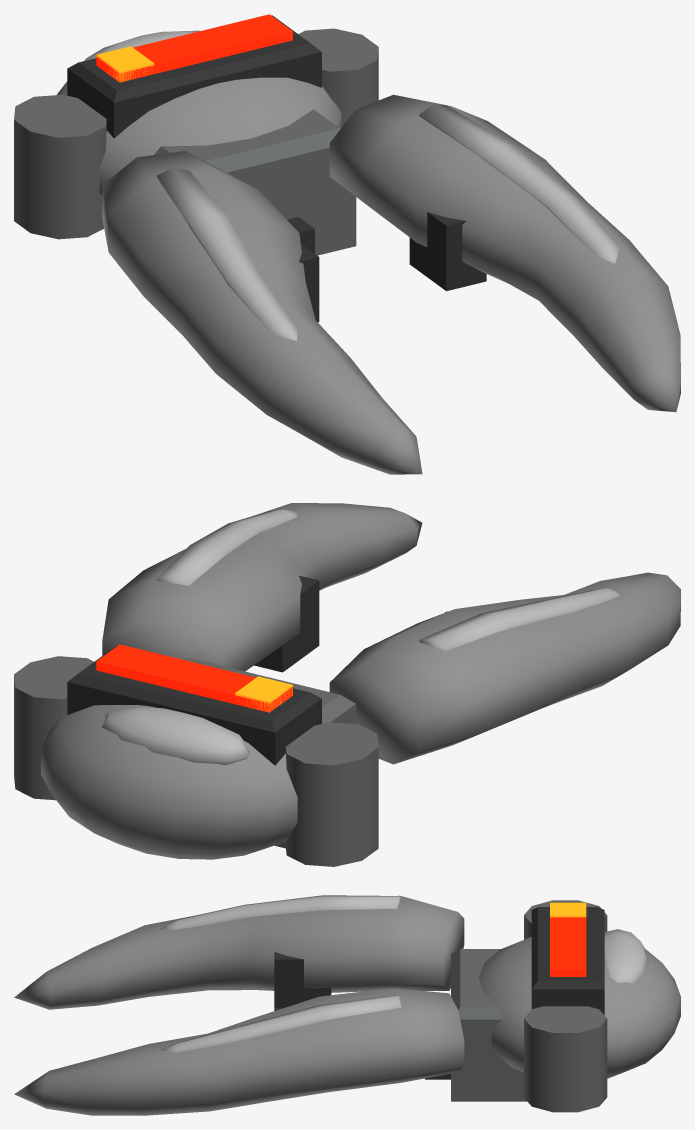
The model's file is newshd-121.glb.
The picture shows the model from 3 angles, top to bottom: view 1: azimuth 30°, elevation 25°; view 2: azimuth 150°, elevation 25°; view 3: azimuth 270°, elevation 25°; orthographic projection. The views are drawn at different scales.
Visible parts, largest first — view 1: newshd-121; view 2: newshd-121; view 3: newshd-121.
Part boxes in pixels (x1=…): newshd-121: x1=14, y1=14, x2=680, y2=474; newshd-121: x1=14, y1=503, x2=680, y2=866; newshd-121: x1=14, y1=895, x2=680, y2=1115.
Size of the model in its own units: 1.19 by 0.47 by 2.14.
